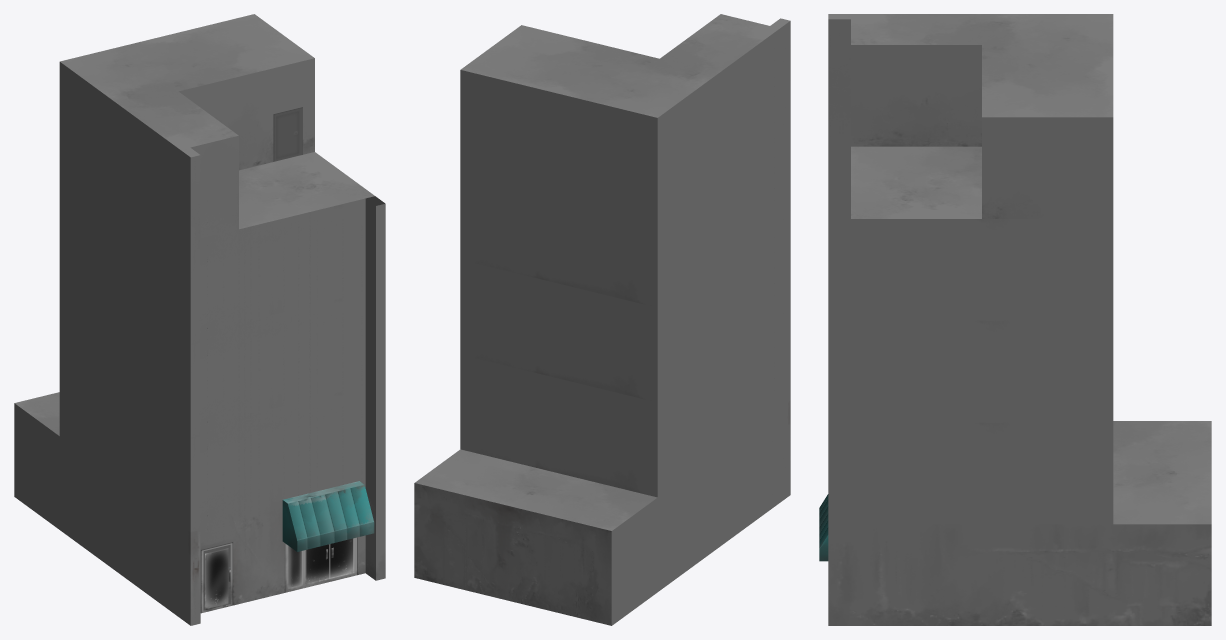
The model's file is BgMD_Building_14_01.fbx.
The picture shows the model from 3 angles, left to right: view 1: azimuth 30°, elevation 25°; view 2: azimuth 150°, elevation 25°; view 3: azimuth 270°, elevation 25°; orthographic projection. The views are drawn at different scales.
Parts seen in each view (by area): view 1: pCube191; view 2: pCube191; view 3: pCube191.
Boxes of the visible parts, left/top/right/bottom form: pCube191: left=14, top=14, right=385, bottom=625; pCube191: left=414, top=14, right=790, bottom=625; pCube191: left=819, top=14, right=1211, bottom=625.
Size of the model in its own units: 1044 by 2398 by 1676.
